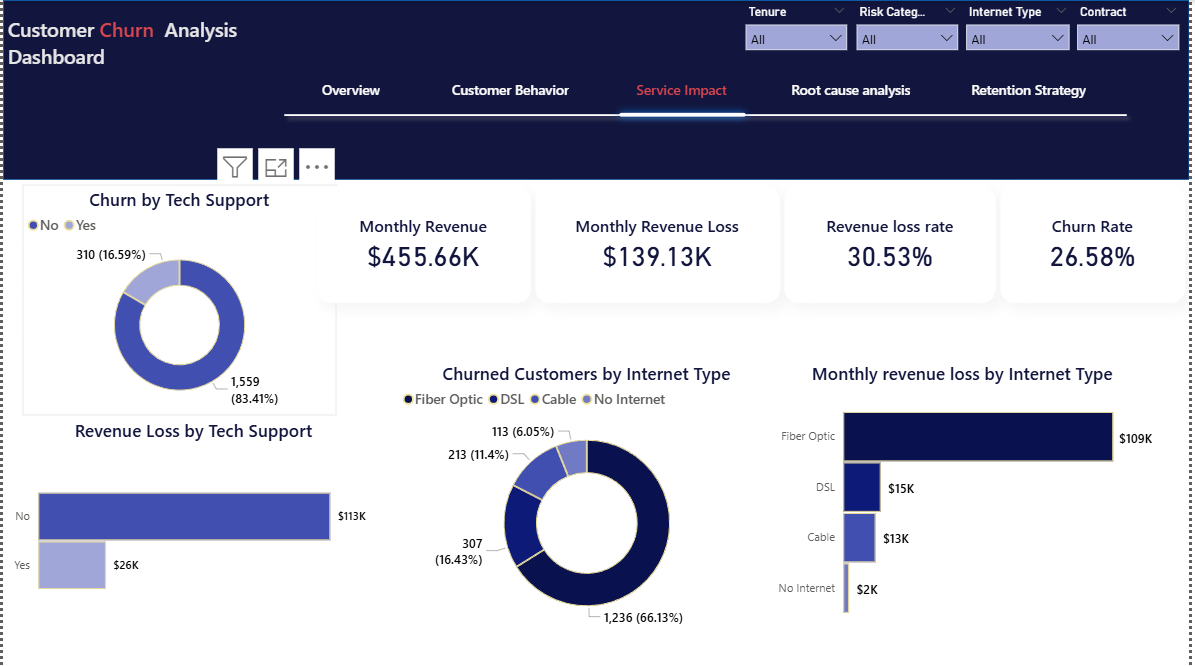

Layout of this report page (visuals, bound fields, positions):
{"tool":"powerbi","page":{"name":"Service Impact Analysis","canvas":[1280,720],"ordinal":2},"visuals":[{"type":"shape","box":[0,0,1280.8,194.3],"z":0},{"type":"donutChart","fields":{"Category":["Churn_master.Internet Type"],"Y":["Measure.Churned Customers"]},"box":[425.9,387,408,301.2],"z":1000},{"type":"barChart","title":"Revenue Loss by Tech Support","fields":{"Category":["Churn_master.Premium Tech Support"],"Y":["Measure.Monthly Revenue Lost"]},"box":[4.9,448.5,401.6,239.6],"z":2000},{"type":"barChart","title":"Monthly revenue loss by Internet Type","fields":{"Category":["Churn_master.Internet Type"],"Y":["Measure.Monthly Revenue Lost"],"Series":["Churn_master.Internet Type"]},"box":[825.8,387,419.4,301.2],"z":3000},{"type":"donutChart","title":"Churn by Tech Support","fields":{"Category":["Churn_master.Premium Tech Support"],"Y":["Measure.Churned Customers"]},"box":[21,199.2,338.4,249.4],"z":4000},{"type":"cardVisual","fields":{"Data":["Measure.Total Monthly Revenue"]},"box":[338.4,200.8,231.5,126.3],"z":5000},{"type":"cardVisual","fields":{"Data":["Measure.Monthly Revenue Lost"]},"box":[574.8,200.8,263.9,126.3],"z":6000},{"type":"cardVisual","fields":{"Data":["Measure.Revenue loss rate"]},"box":[843.6,200.8,228.3,126.3],"z":7000},{"type":"textbox","box":[0,11.3,299.6,74.5],"z":8000},{"type":"actionButton","box":[326.1,76.3,100.2,39.8],"z":9000},{"type":"actionButton","box":[478,76.3,140,39.8],"z":10000},{"type":"actionButton","box":[669.6,76.3,124.1,39.8],"z":11000},{"type":"actionButton","box":[845.4,76.3,140,39.8],"z":12000},{"type":"actionButton","box":[1037.1,76.3,141.6,39.8],"z":13000},{"type":"shape","box":[294.3,100.2,927.3,47.7],"z":14000},{"type":"shape","box":[657.4,93.9,152.2,59.9],"z":15000},{"type":"cardVisual","fields":{"Data":["Measure.Churn Rate"]},"box":[1076.8,200.8,199.2,126.3],"z":16000},{"type":"slicer","fields":{"Values":["Churn_master.contract"]},"box":[1150,0,130,55],"z":17000},{"type":"slicer","fields":{"Values":["Churn_master.Internet Type"]},"box":[1029.8,0,131.2,55.1],"z":18000},{"type":"slicer","fields":{"Values":["Churn_master.Risk Category"]},"box":[910.8,0,129.5,55.1],"z":19000},{"type":"slicer","fields":{"Values":["Churn_master.tenure_group"]},"box":[791.8,0,129.5,55.1],"z":20000}]}

Visuals, with their boxes in screenshot pixels (x1, y1, x2, y2), scaled from the page's 1280x720 canvas onto the 1195x666 screenshot:
shape: box=[0, 0, 1194, 180]
donutChart - Churn_master.Internet Type x Measure.Churned Customers: box=[398, 358, 779, 637]
"Revenue Loss by Tech Support" barChart: box=[5, 415, 380, 636]
"Monthly revenue loss by Internet Type" barChart: box=[771, 358, 1163, 637]
"Churn by Tech Support" donutChart: box=[20, 184, 336, 415]
cardVisual - Measure.Total Monthly Revenue: box=[316, 186, 532, 303]
cardVisual - Measure.Monthly Revenue Lost: box=[537, 186, 783, 303]
cardVisual - Measure.Revenue loss rate: box=[788, 186, 1001, 303]
textbox: box=[0, 10, 280, 79]
actionButton: box=[304, 71, 398, 107]
actionButton: box=[446, 71, 577, 107]
actionButton: box=[625, 71, 741, 107]
actionButton: box=[789, 71, 920, 107]
actionButton: box=[968, 71, 1100, 107]
shape: box=[275, 93, 1140, 137]
shape: box=[614, 87, 756, 142]
cardVisual - Measure.Churn Rate: box=[1005, 186, 1191, 303]
slicer - Churn_master.contract: box=[1074, 0, 1194, 51]
slicer - Churn_master.Internet Type: box=[961, 0, 1084, 51]
slicer - Churn_master.Risk Category: box=[850, 0, 971, 51]
slicer - Churn_master.tenure_group: box=[739, 0, 860, 51]
